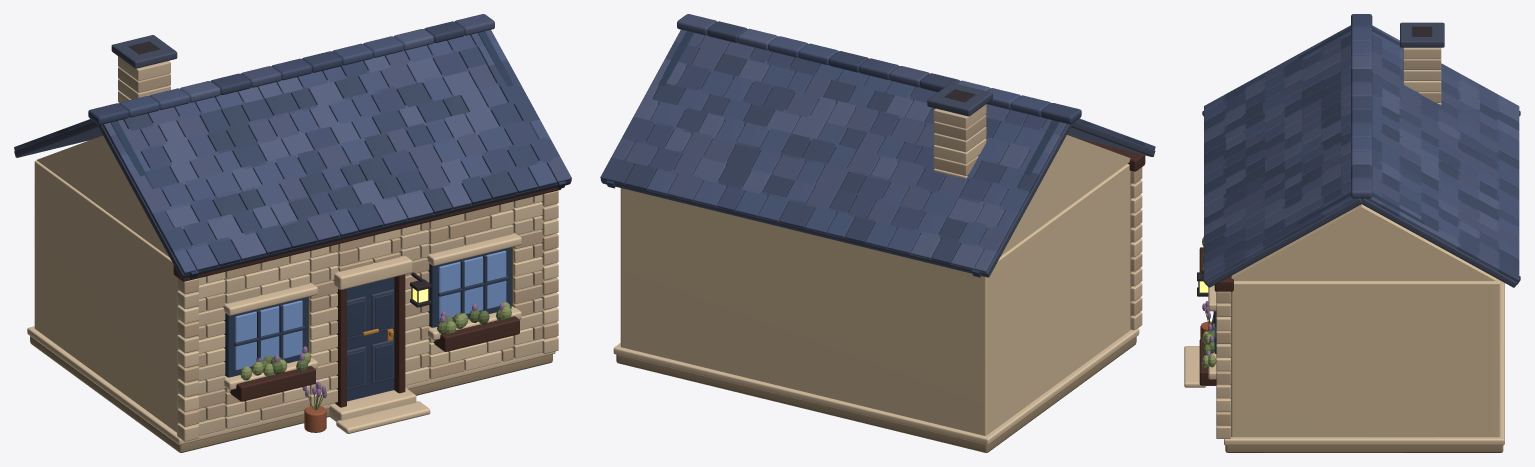
Rendered from plaza-home-exterior.glb.
3 renders of one model, left to right at view 1: azimuth 30°, elevation 25°; view 2: azimuth 150°, elevation 25°; view 3: azimuth 270°, elevation 25°, orthographic. The views are drawn at different scales.
Parts seen in each view (by area): view 1: Indigo_slate_roof_Mesh, Stone_walls_and_foundation_Mesh, Door_windows_and_porch_Mesh, Flower_boxes_and_lavender_Mesh; view 2: Stone_walls_and_foundation_Mesh, Indigo_slate_roof_Mesh; view 3: Indigo_slate_roof_Mesh, Stone_walls_and_foundation_Mesh, Door_windows_and_porch_Mesh, Flower_boxes_and_lavender_Mesh.
Boxes of the visible parts, box(x1,y1,x2,y2) form: Indigo_slate_roof_Mesh: box(14, 14, 571, 278); Stone_walls_and_foundation_Mesh: box(27, 160, 561, 452); Door_windows_and_porch_Mesh: box(223, 233, 521, 433); Flower_boxes_and_lavender_Mesh: box(229, 302, 519, 432); Stone_walls_and_foundation_Mesh: box(613, 138, 1145, 452); Indigo_slate_roof_Mesh: box(600, 14, 1155, 277); Indigo_slate_roof_Mesh: box(1202, 14, 1520, 287); Stone_walls_and_foundation_Mesh: box(1214, 276, 1504, 452); Door_windows_and_porch_Mesh: box(1184, 270, 1216, 387); Flower_boxes_and_lavender_Mesh: box(1199, 237, 1216, 385).
Size of the model in its own units: 6.12 by 4.58 by 4.88.
